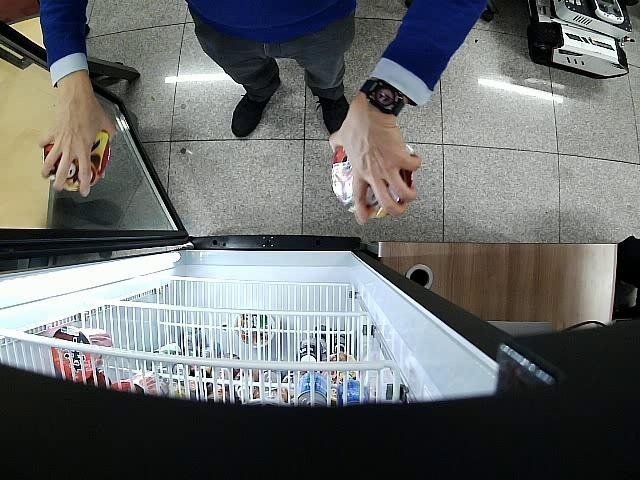05_nuguri_L: (332, 144, 416, 218), (42, 130, 111, 192)
